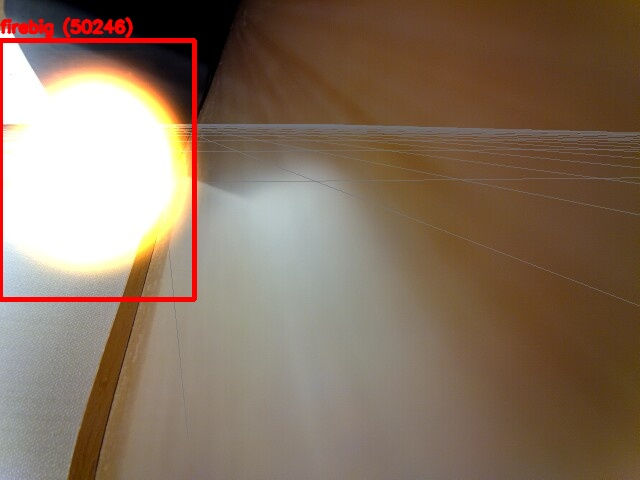firebig: (0, 40, 194, 299)
